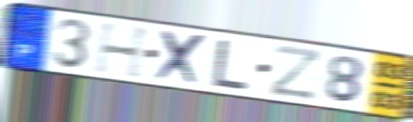3: (51, 18, 95, 71)
8: (325, 54, 366, 105)
H: (92, 20, 155, 81)
L: (210, 37, 252, 92)
X: (153, 28, 210, 89)
Z: (267, 42, 325, 102)
